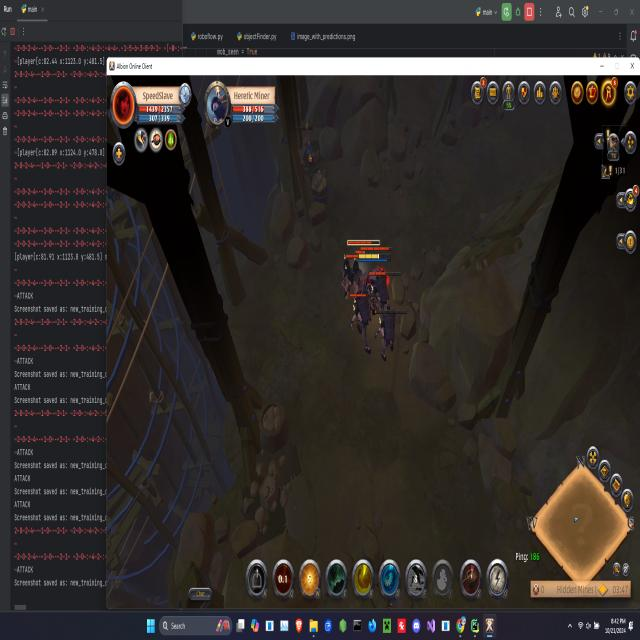ore: (344, 235, 394, 286), (374, 307, 407, 374), (348, 290, 381, 352), (338, 245, 362, 298), (364, 270, 398, 302)
red: (356, 252, 388, 300)
